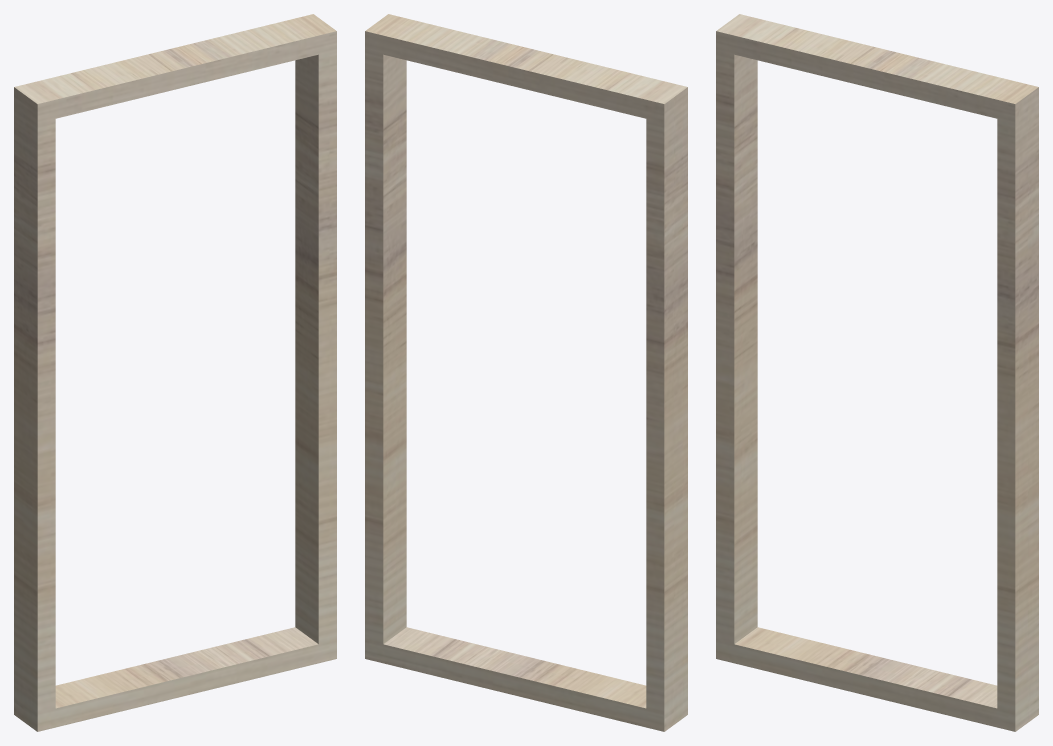
The model's file is дверь1.fbx.
3 renders of one model, left to right at view 1: azimuth 30°, elevation 25°; view 2: azimuth 150°, elevation 25°; view 3: azimuth 330°, elevation 25°, orthographic.
Parts seen in each view (by area): view 1: Cube; view 2: Cube; view 3: Cube.
Part boxes in pixels (x1,y1,x2,y2): Cube: [14, 14, 336, 731]; Cube: [365, 14, 687, 731]; Cube: [716, 14, 1038, 731].
Bounding box in the file's own units: 188 × 376 × 25.42.
Materials: 1 (1 with a texture image).
